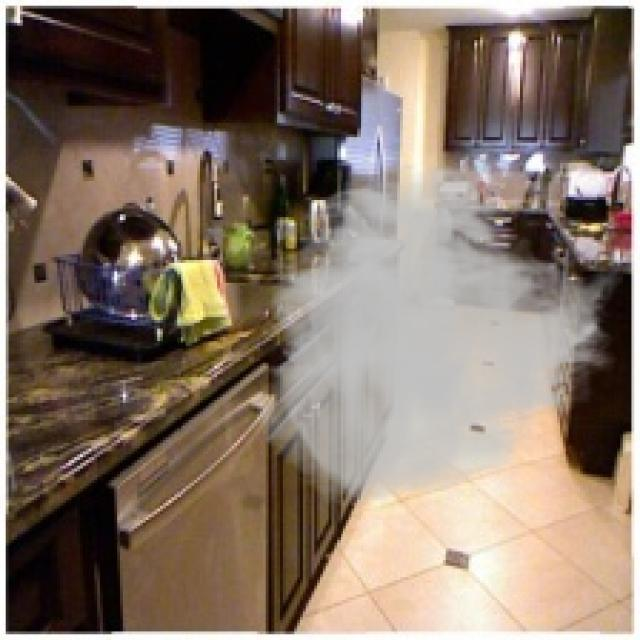Smoke: (251, 160, 626, 509)
